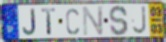C: (65, 7, 81, 36)
J: (132, 5, 148, 36), (22, 8, 37, 36)
N: (82, 6, 105, 37)
S: (109, 4, 130, 37)
T: (40, 8, 57, 36)
